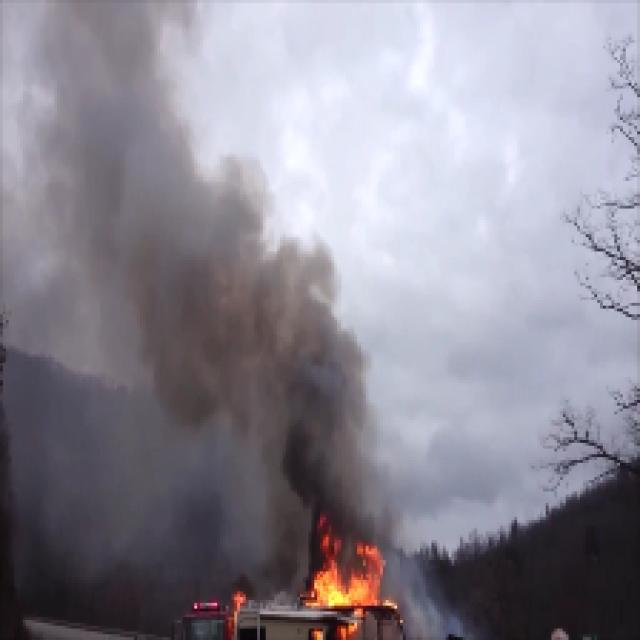fire: (316, 549, 375, 605)
smoke: (151, 223, 282, 414), (292, 361, 360, 520)
